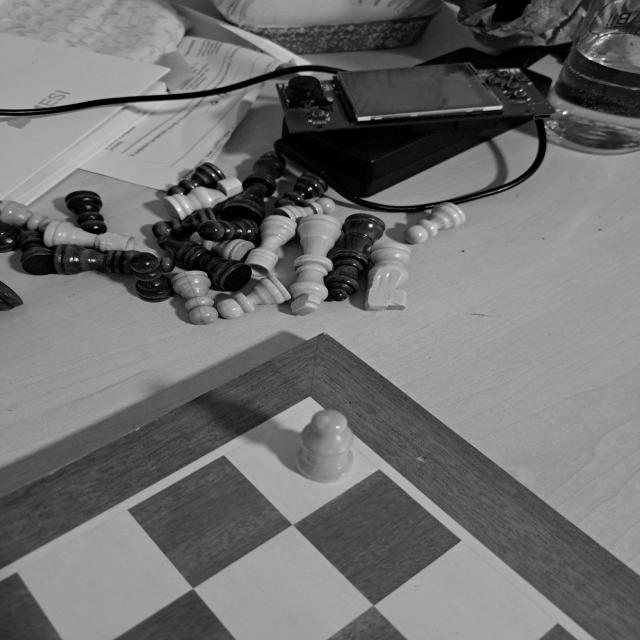chess-table-corners: (280, 383, 338, 413)
